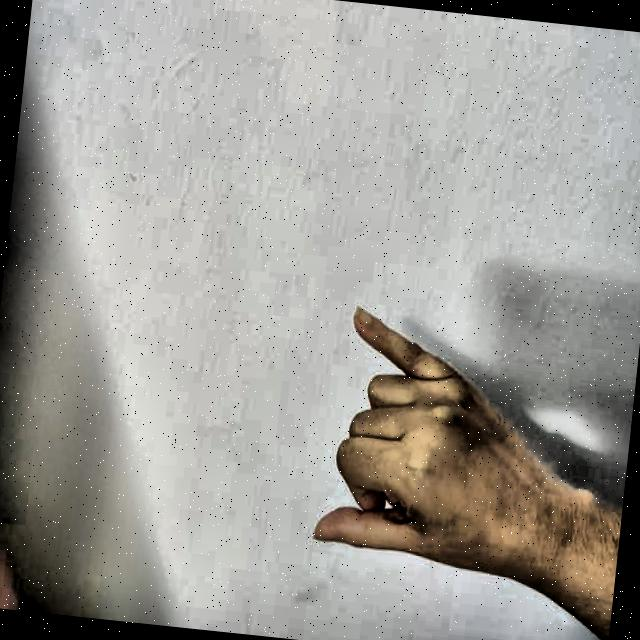Oi: (270, 260, 566, 620)
